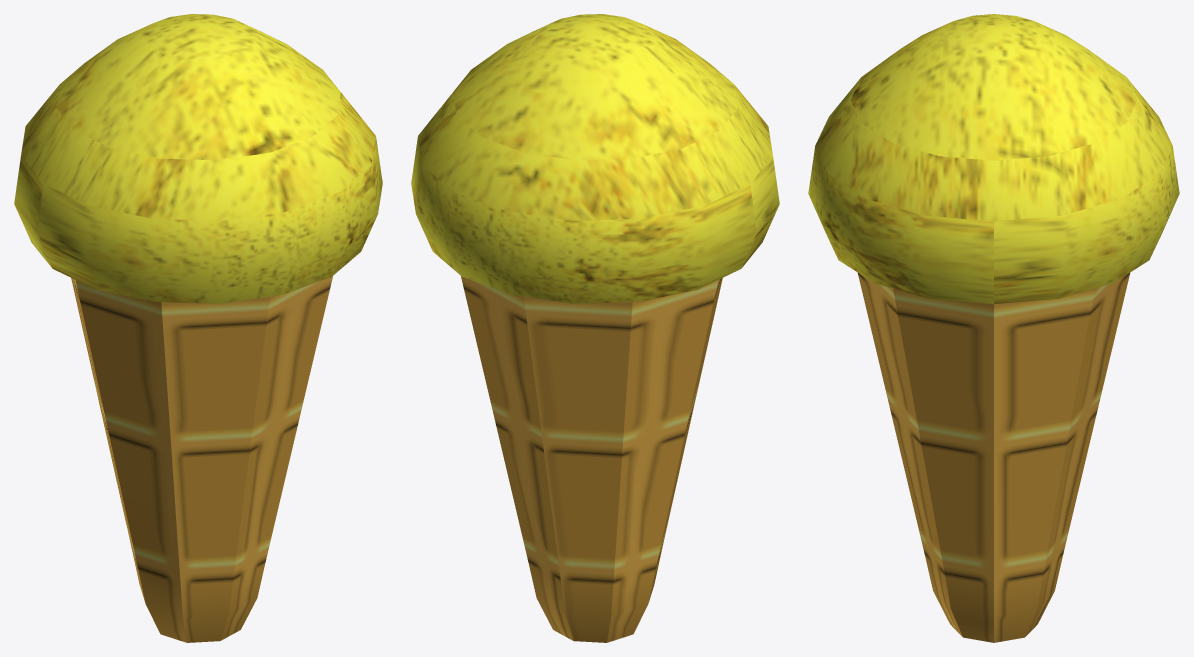
The model's file is IceCreamH.fbx.
The picture shows the model from 3 angles, left to right: view 1: azimuth 30°, elevation 25°; view 2: azimuth 150°, elevation 25°; view 3: azimuth 270°, elevation 25°; orthographic projection.
Parts seen in each view (by area): view 1: IceCreamH, IceCreamCorn_H; view 2: IceCreamH, IceCreamCorn_H; view 3: IceCreamH, IceCreamCorn_H.
Part boxes in pixels (x1,y1,x2,y2): IceCreamH: (14, 14, 382, 303); IceCreamCorn_H: (71, 276, 332, 642); IceCreamH: (411, 14, 779, 303); IceCreamCorn_H: (461, 276, 722, 642); IceCreamH: (808, 14, 1179, 304); IceCreamCorn_H: (857, 273, 1130, 642).
Size of the model in its own units: 106 by 192 by 106.
